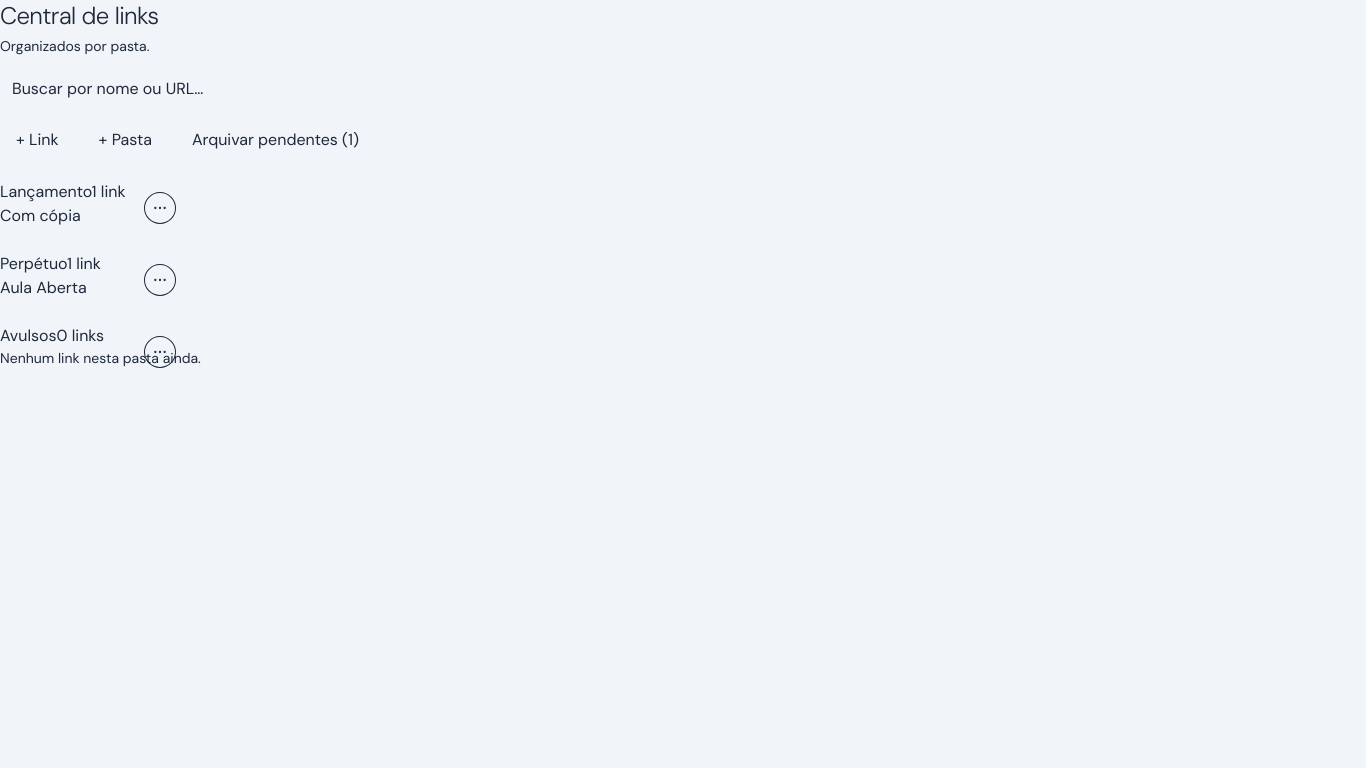
Test: Central de links: página arquivada › Copiar endereço grava o endereço público na área de transferência
Check: the element named "Pastas" is shown, box 0,180 -> 201,368
Click the button "Lançamento1 link": (63, 192) 0,180 -> 126,204
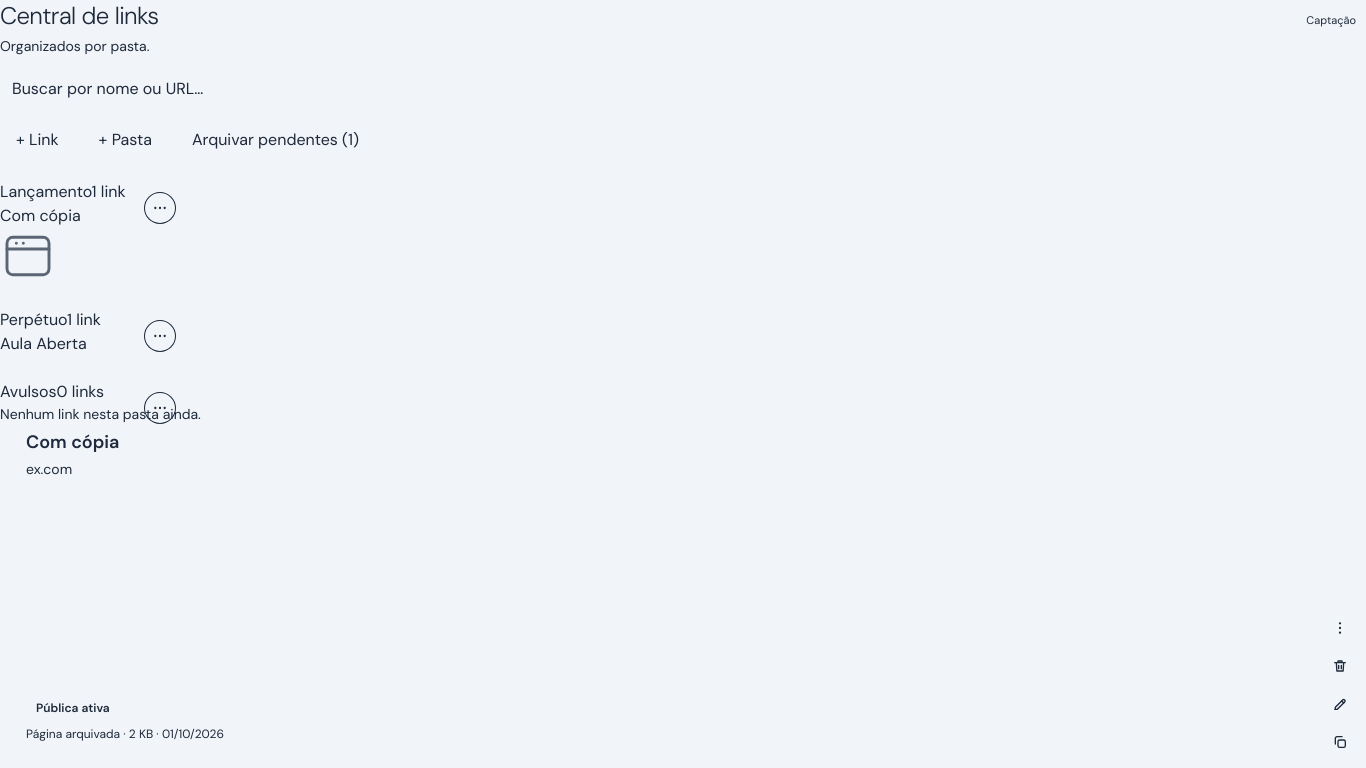
Click the button named "Mais ações de Com cópia": (1340, 628) 1324,612 -> 1356,644
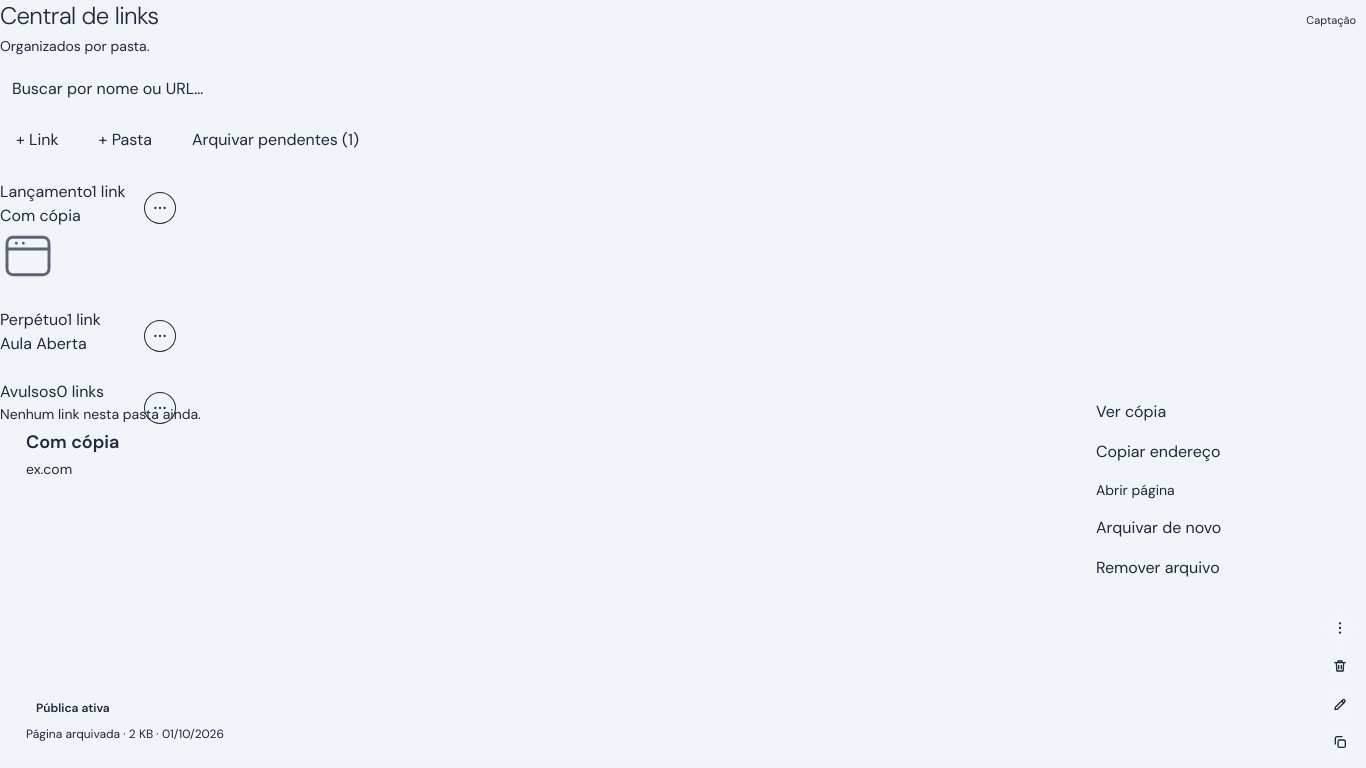
Click the button "Copiar endereço": (1212, 452) 1084,432 -> 1340,472
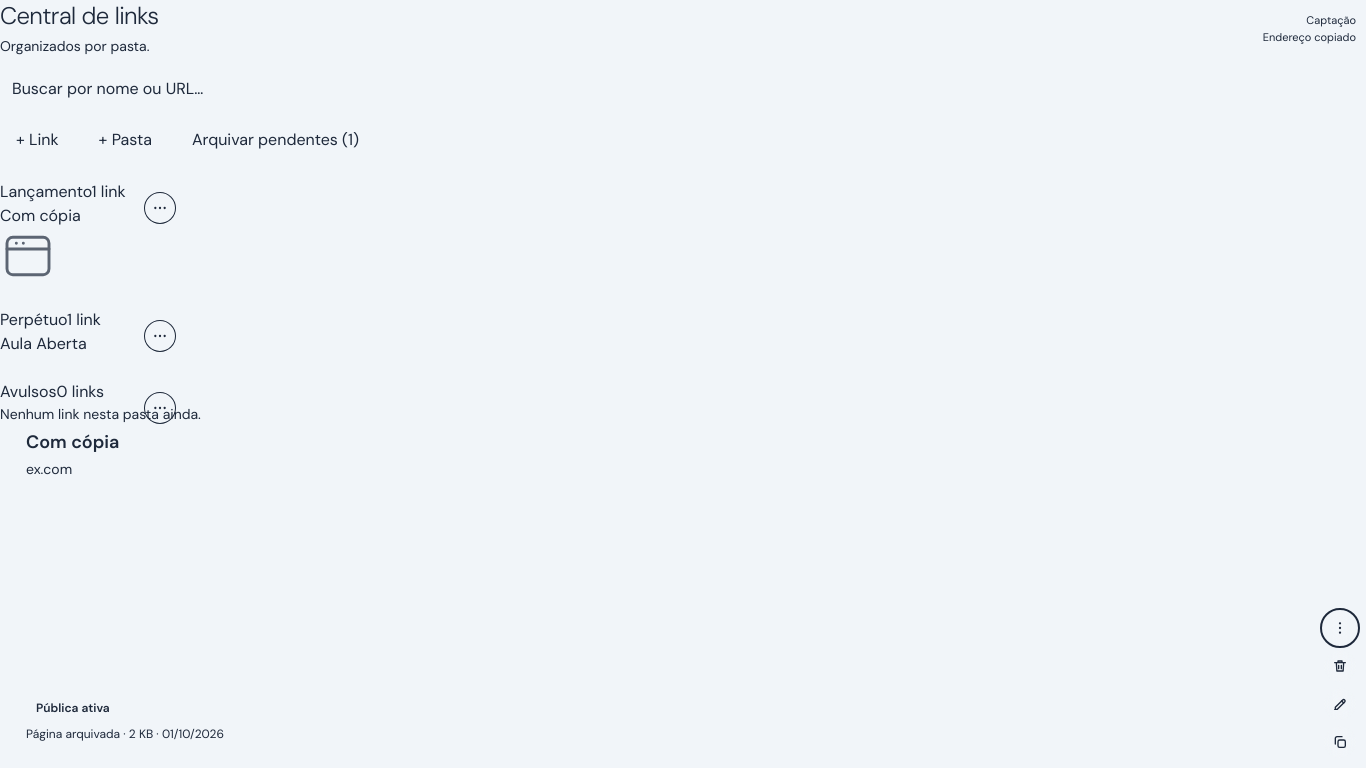
Check: the text "Endereço copiado" is shown, box 1263,31 -> 1356,45
